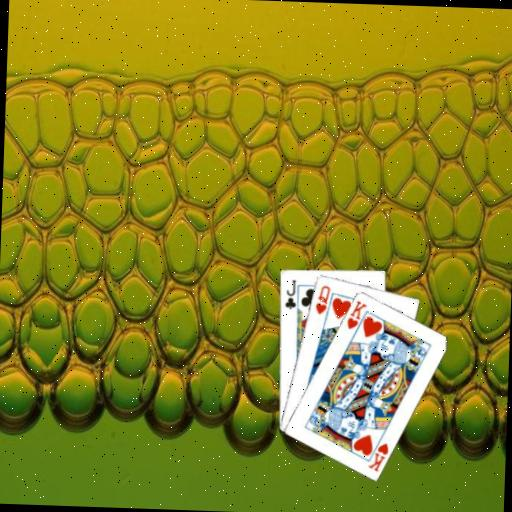JC: (280, 275, 297, 310)
KH: (343, 296, 368, 330), (365, 439, 390, 473)
QH: (312, 282, 332, 316)
